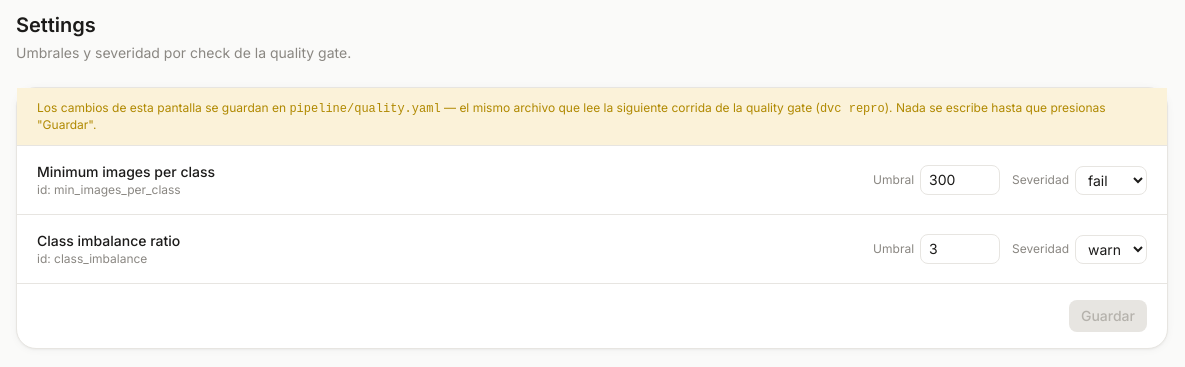
it: Settings persiste contra /quality-policy (APP-07) › el botón Guardar está deshabilitado hasta que hay una edición
Expected: the button "Guardar" is disabled, [1069, 300, 1147, 332]
Replace the text in the field labelled "Umbral" in the row of "Minimum images per class" with "4.5" at (960, 180), box [920, 165, 1000, 195]
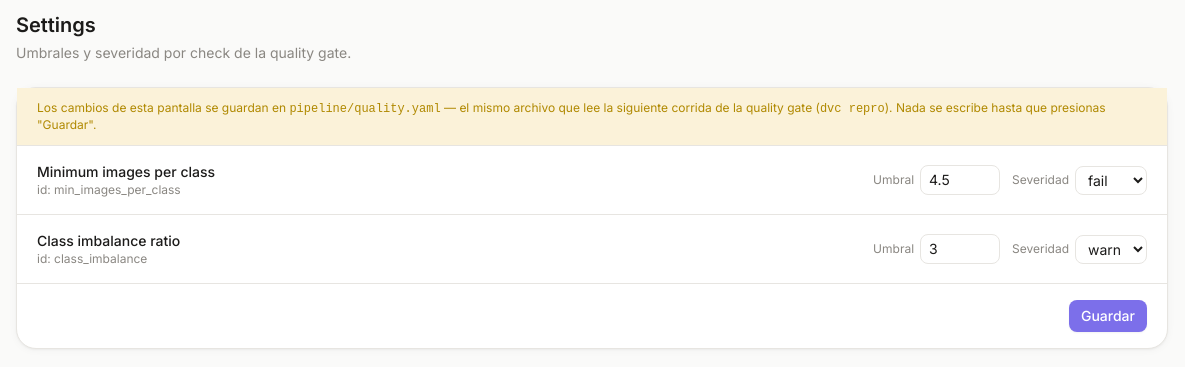
Now the button "Guardar" is enabled, box [1069, 300, 1147, 332]
